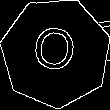O_S: (30, 24, 81, 81)
